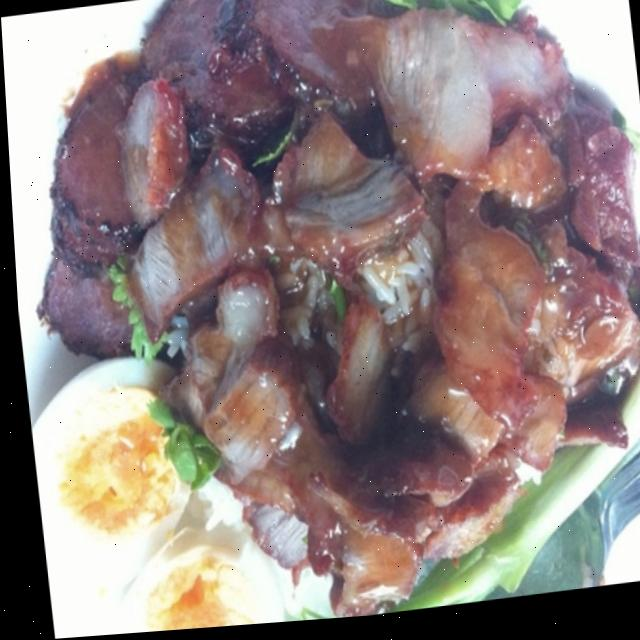猪肉菜式: (27, 0, 640, 638)
